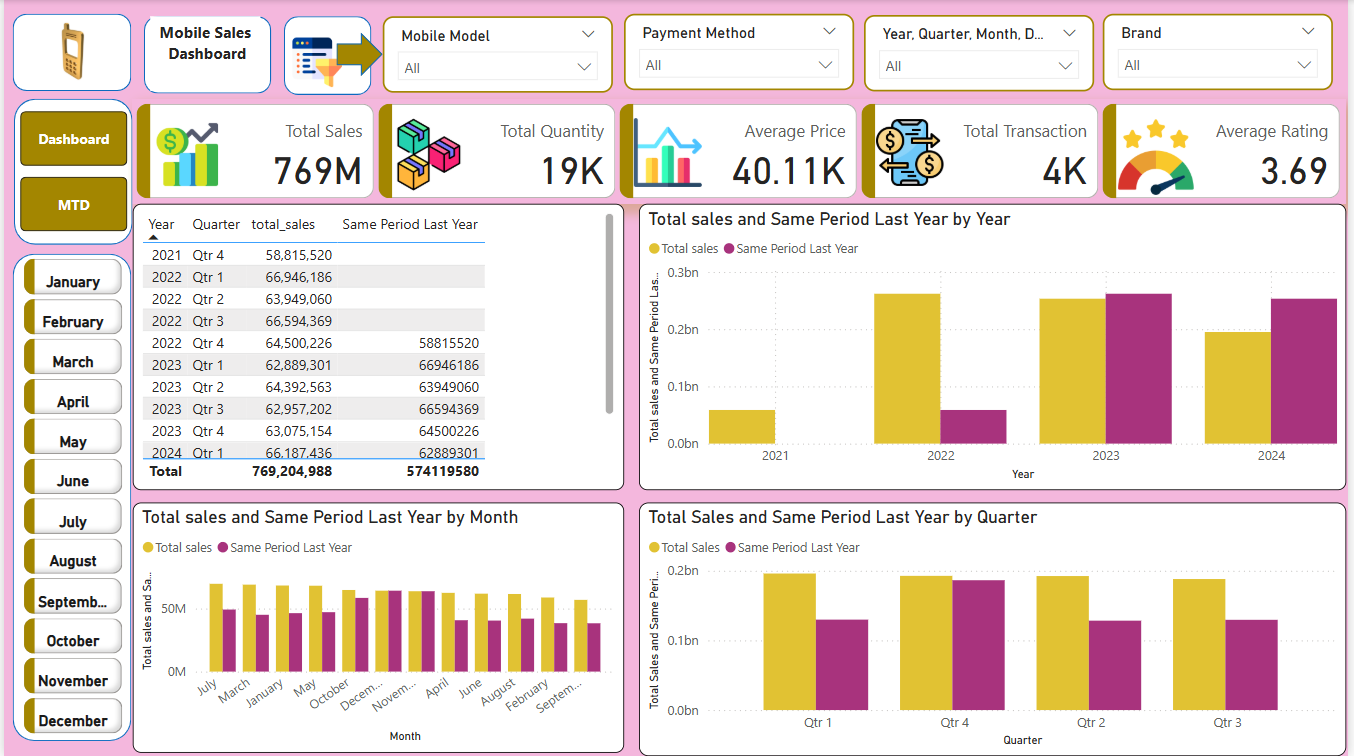

The dashboard page shown, as its layout file describes it:
{"tool":"powerbi","page":{"name":"Same Period Last Year","canvas":[1280,720],"ordinal":2},"visuals":[{"type":"shape","box":[8.3,13.1,113.1,73.8],"z":0},{"type":"image","box":[13.1,13.1,103.6,72.6],"z":1000},{"type":"shape","box":[9.5,94,113.1,139.3],"z":2000},{"type":"cardVisual","fields":{"Data":["sales_data.total_sales","sales_data.Total_Quantity","sales_data.average_price","sales_data.total_transaction","sales_data.average_rating"]},"box":[121.4,94,1157.1,100],"z":3000},{"type":"slicer","fields":{"Values":["sales_data.Mobile Model"]},"box":[360.7,15.5,219,72.6],"z":4000},{"type":"slicer","fields":{"Values":["sales_data.Payment Method"]},"box":[590.5,13.1,219,72.6],"z":5000},{"type":"slicer","fields":{"Values":["Custom_Calender.Date.Variation.Date Hierarchy.Year","Custom_Calender.Date.Variation.Date Hierarchy.Quarter","Custom_Calender.Date.Variation.Date Hierarchy.Month","Custom_Calender.Date.Variation.Date Hierarchy.Day"]},"box":[819.1,14.3,219,72.6],"z":6000},{"type":"shape","box":[266.7,15.5,83.3,75],"z":7000},{"type":"image","box":[266.7,31,63.1,57.1],"z":8000},{"type":"shape","box":[316.7,31,44,41.7],"z":9000},{"type":"shape","box":[133.3,15.5,121.4,73.8],"z":10000},{"type":"textbox","box":[139.3,15.5,104.8,71.4],"z":11000},{"type":"shape","box":[8.3,241.7,113.1,464.3],"z":12000},{"type":"advancedSlicerVisual","fields":{"Values":["Custom_Calender.Date.Variation.Date Hierarchy.Month"]},"box":[14.3,241.7,103.6,464.3],"z":13000},{"type":"slicer","fields":{"Values":["sales_data.Brand"]},"box":[1046.4,13.1,219,72.6],"z":14000},{"type":"tableEx","fields":{"Values":["Custom_Calender.Date.Variation.Date Hierarchy.Year","Custom_Calender.Date.Variation.Date Hierarchy.Quarter","sales_data.total_sales","sales_data.Same Period Last Year"]},"box":[122.6,194,467.9,272.6],"z":15000},{"type":"clusteredColumnChart","fields":{"Category":["Custom_Calender.Date.Variation.Date Hierarchy.Year","Custom_Calender.Date.Variation.Date Hierarchy.Quarter"],"Y":["sales_data.total_sales","sales_data.Same Period Last Year"]},"box":[604.8,194,673.8,272.6],"z":16000},{"type":"clusteredColumnChart","fields":{"Category":["Custom_Calender.Date.Variation.Date Hierarchy.Year","Custom_Calender.Date.Variation.Date Hierarchy.Quarter"],"Y":["sales_data.total_sales","sales_data.Same Period Last Year"]},"box":[604.8,478.6,673.8,241.7],"z":16001},{"type":"clusteredColumnChart","fields":{"Y":["sales_data.total_sales","sales_data.Same Period Last Year"],"Category":["Custom_Calender.Date.Variation.Date Hierarchy.Year","Custom_Calender.Date.Variation.Date Hierarchy.Month","Custom_Calender.Date.Variation.Date Hierarchy.Day"]},"box":[122.6,478.6,467.9,238.1],"z":16002},{"type":"pageNavigator","box":[15.5,106,102.4,115.5],"z":16003}]}

Visuals, with their boxes in screenshot pixels (x1, y1, x2, y2), scaled from the page's 1280x720 canvas onto the 1354x756 screenshot:
shape: Rect(9, 14, 128, 91)
image: Rect(14, 14, 123, 90)
shape: Rect(10, 99, 130, 245)
cardVisual - sales_data.total_sales x sales_data.Total_Quantity: Rect(128, 99, 1352, 204)
slicer - sales_data.Mobile Model: Rect(382, 16, 613, 93)
slicer - sales_data.Payment Method: Rect(625, 14, 856, 90)
slicer - Custom_Calender.Date.Variation.Date Hierarchy.Year x Custom_Calender.Date.Variation.Date Hierarchy.Quarter: Rect(866, 15, 1098, 91)
shape: Rect(282, 16, 370, 95)
image: Rect(282, 33, 349, 93)
shape: Rect(335, 33, 382, 76)
shape: Rect(141, 16, 269, 94)
textbox: Rect(147, 16, 258, 91)
shape: Rect(9, 254, 128, 741)
advancedSlicerVisual - Custom_Calender.Date.Variation.Date Hierarchy.Month: Rect(15, 254, 125, 741)
slicer - sales_data.Brand: Rect(1107, 14, 1339, 90)
tableEx - Custom_Calender.Date.Variation.Date Hierarchy.Year x Custom_Calender.Date.Variation.Date Hierarchy.Quarter: Rect(130, 204, 625, 490)
clusteredColumnChart - Custom_Calender.Date.Variation.Date Hierarchy.Year x Custom_Calender.Date.Variation.Date Hierarchy.Quarter: Rect(640, 204, 1353, 490)
clusteredColumnChart - Custom_Calender.Date.Variation.Date Hierarchy.Year x Custom_Calender.Date.Variation.Date Hierarchy.Quarter: Rect(640, 503, 1353, 755)
clusteredColumnChart - sales_data.total_sales x sales_data.Same Period Last Year: Rect(130, 503, 625, 753)
pageNavigator: Rect(16, 111, 125, 233)
